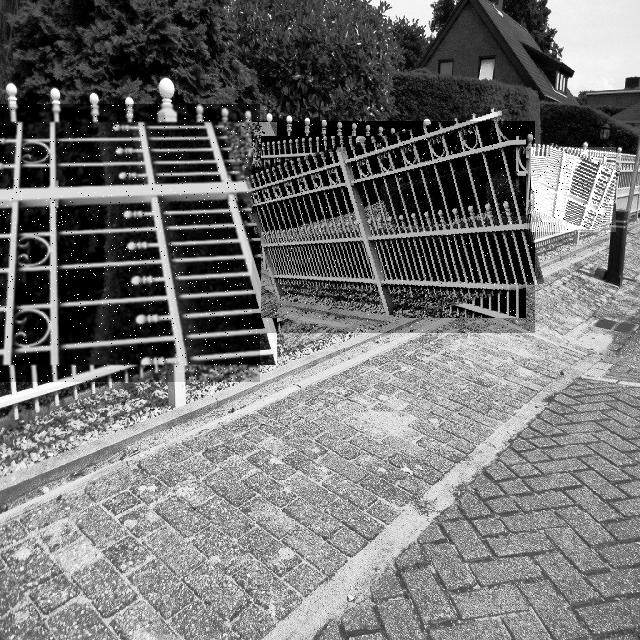anomaly-fence: (0, 104, 260, 382), (252, 121, 535, 333), (531, 147, 616, 232)
